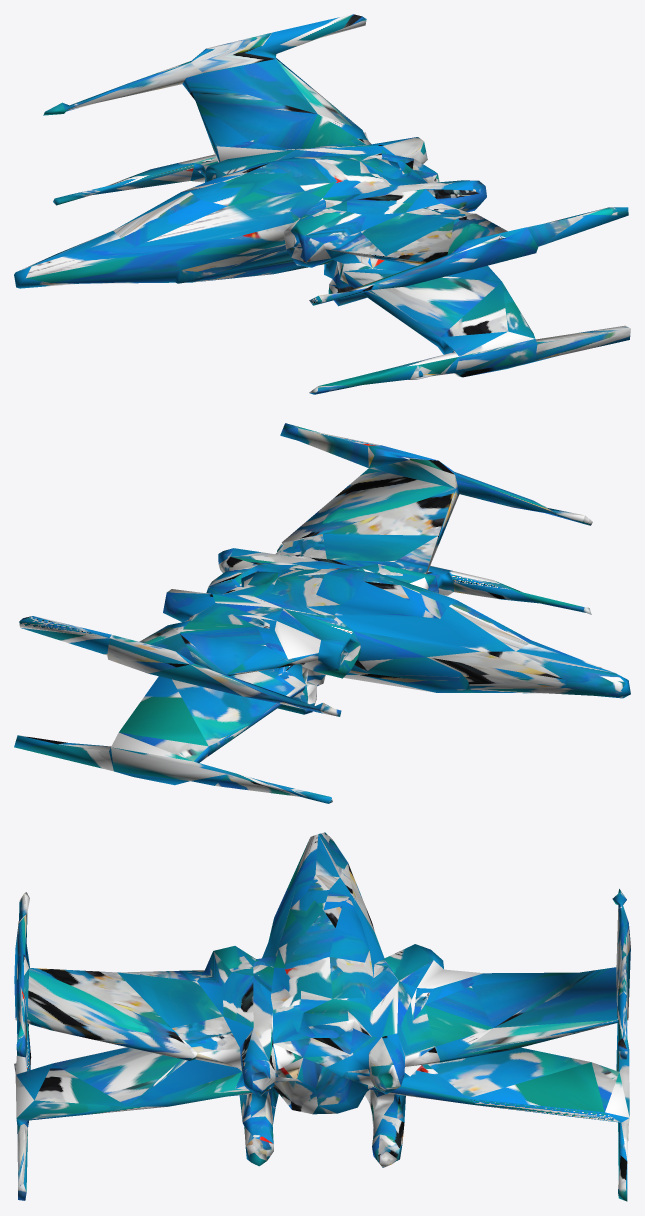
The model's file is nave.fbx.
3 views of the same model, one above another, from view 1: azimuth 30°, elevation 25°; view 2: azimuth 150°, elevation 25°; view 3: azimuth 270°, elevation 25° (orthographic). The views are drawn at different scales.
Visible parts, largest first — view 1: Mesh_0; view 2: Mesh_0; view 3: Mesh_0.
Part boxes in pixels (x1=…): Mesh_0: x1=14, y1=14, x2=630, y2=394; Mesh_0: x1=14, y1=423, x2=630, y2=803; Mesh_0: x1=14, y1=832, x2=630, y2=1201.
Bounding box in the file's own units: 200 × 54.07 × 192.
